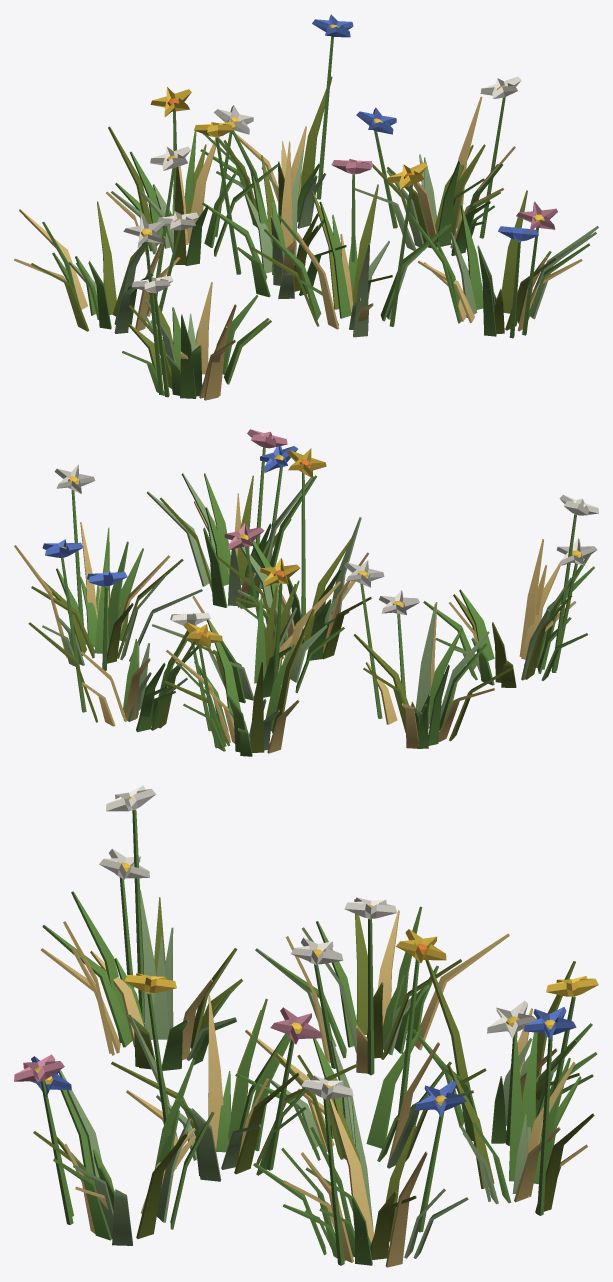
File: deco_grass_short.fbx
The picture shows the model from 3 angles, top to bottom: view 1: azimuth 30°, elevation 25°; view 2: azimuth 150°, elevation 25°; view 3: azimuth 270°, elevation 25°; orthographic projection. The views are drawn at different scales.
Parts seen in each view (by area): view 1: Grass_Short_Tufts, Grass_Short_Flowers; view 2: Grass_Short_Tufts, Grass_Short_Flowers; view 3: Grass_Short_Tufts, Grass_Short_Flowers.
Boxes of the visible parts, box(x1,y1,x2,y2) form: Grass_Short_Tufts: box(14, 76, 598, 400); Grass_Short_Flowers: box(123, 14, 557, 397); Grass_Short_Tufts: box(14, 473, 594, 756); Grass_Short_Flowers: box(42, 429, 598, 748); Grass_Short_Tufts: box(33, 890, 597, 1267); Grass_Short_Flowers: box(14, 785, 598, 1265).
Size of the model in its own units: 122 by 44.93 by 104.
